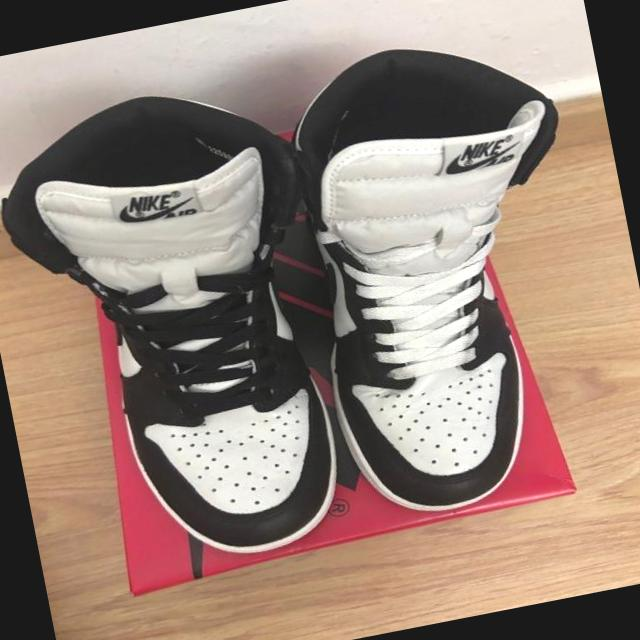nike_original_jordan: (265, 19, 629, 529), (0, 73, 358, 590)
